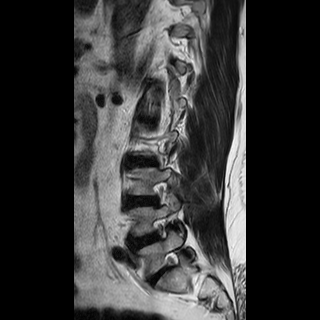LFS0: (145, 176, 175, 211), (148, 210, 172, 246), (156, 248, 184, 275)
